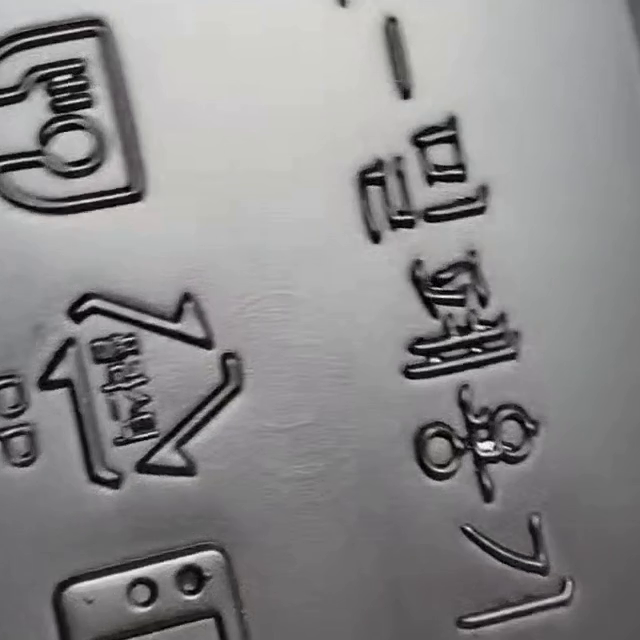Plastic: (37, 291, 245, 489)
